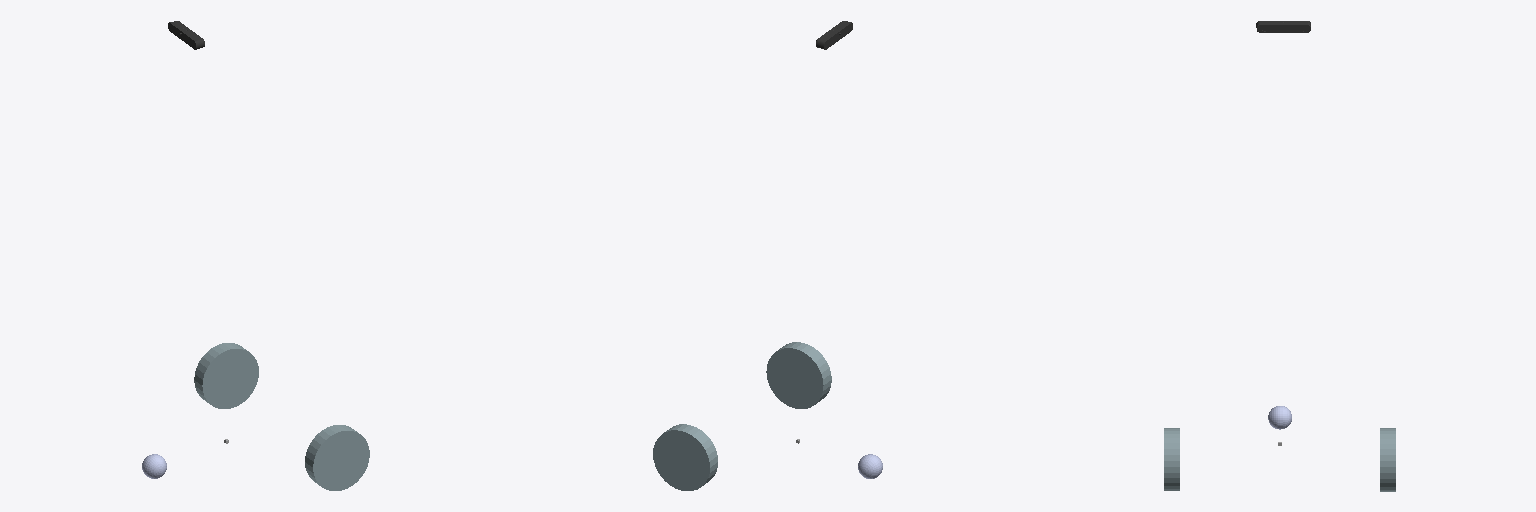
The robot description file, URDF, robot "reception":
<?xml version="1.0" ?>
<!-- =================================================================================== -->
<!-- |    This document was autogenerated by xacro from robot_fablab.xacro             | -->
<!-- |    EDITING THIS FILE BY HAND IS NOT RECOMMENDED                                 | -->
<!-- =================================================================================== -->
<robot name="reception">
  <gazebo>
    <plugin filename="libgazebo_ros_control.so" name="gazebo_ros_control">
    </plugin>
  </gazebo>
  <gazebo reference="link_lidar">
    <sensor name="head_hokuyo_sensor" type="ray">
      <pose>0 0 0 0 0 0</pose>
      <visualize>false</visualize>
      <update_rate>10</update_rate>
      <ray>
        <scan>
          <horizontal>
            <samples>512</samples>
            <resolution>1</resolution>
            <min_angle>-3.14</min_angle>
            <max_angle>3.14</max_angle>
          </horizontal>
        </scan>
        <range>
          <min>0.10</min>
          <max>10.0</max>
          <resolution>0.03</resolution>
        </range>
        <noise>
          <type>gaussian</type>
          <!-- Noise parameters based on published spec for Hokuyo laser
               achieving "+-30mm" accuracy at range < 10m.  A mean of 0.0m and
               stddev of 0.01m will put 99.7% of samples within 0.03m of the true
               reading. -->
          <mean>0.0</mean>
          <stddev>0.01</stddev>
        </noise>
      </ray>
      <plugin filename="libgazebo_ros_laser.so" name="gazebo_ros_head_hokuyo_controller">
        <topicName>/laser/scan</topicName>
        <frameName>link_lidar</frameName>
      </plugin>
    </sensor>
  </gazebo>
  <!-- <gazebo reference="link_camera">
    <sensor type="camera" name="camera">
      <update_rate>30.0</update_rate>
      <visualize></visualize>
      <camera name="head">
        <horizontal_fov>1.3962634</horizontal_fov>
        <image>
          <width>800</width>
          <height>800</height>
          <format>R8G8B8</format>
        </image>
        <clip>
          <near>0.02</near>
          <far>300</far>
        </clip>
      </camera>
      <plugin name="camera_controller" filename="libgazebo_ros_camera.so">
        <alwaysOn>true</alwaysOn>
        <updateRate>0.0</updateRate>
        <cameraName>/camera</cameraName>
        <imageTopicName>image_raw</imageTopicName>
        <cameraInfoTopicName>camera_info</cameraInfoTopicName>
        <frameName>link_camera</frameName>
        <hackBaseline>0.07</hackBaseline>
        <distortionK1>0.0</distortionK1>
        <distortionK2>0.0</distortionK2>
        <distortionK3>0.0</distortionK3>
        <distortionT1>0.0</distortionT1>
        <distortionT2>0.0</distortionT2>
      </plugin>
    </sensor>
  </gazebo> -->
  <gazebo reference="imu_link">
    <sensor name="imu_sensor" type="imu">
      <always_on>true</always_on>
      <update_rate>100.0</update_rate>
      <visualize>true</visualize>
      <plugin filename="libgazebo_ros_imu_sensor.so" name="imu_plugin">
        <ros>
          <namespace>/imu</namespace>
        </ros>
        <frameName>imu_link</frameName>
        <topicName>imu/data</topicName>
        <initial_orientation_as_reference>false</initial_orientation_as_reference>
      </plugin>
    </sensor>
  </gazebo>
  <gazebo reference="base_link">
    <material>
          Gazebo/Blue
    </material>
  </gazebo>
  <gazebo reference="link_left">
    <material>
          Gazebo/Black
    </material>
  </gazebo>
  <gazebo reference="link_right">
    <material>
          Gazebo/Black
    </material>
  </gazebo>
  <gazebo reference="link_caster">
    <material>
          Gazebo/Black
    </material>
  </gazebo>
  <gazebo reference="link_camera">
    <material>
          Gazebo/Black
    </material>
  </gazebo>
  <gazebo reference="link_lidar">
    <material>
          Gazebo/Black
    </material>
  </gazebo>
  <link name="base_footprint">
  </link>
  <joint name="base_footprint_joint" type="fixed">
    <parent link="base_footprint"/>
    <child link="base_link"/>
    <origin rpy="0 0 0" xyz="0 0 0"/>
  </joint>
  <link name="base_link">
    <inertial>
      <origin rpy="0 0 0" xyz="-0.025807 0.027971 0.41357"/>
      <mass value="29.924"/>
      <inertia ixx="1.0006" ixy="-0.0013232" ixz="0.0065325" iyy="0.70301" iyz="-3.0656E-05" izz="1.3855"/>
    </inertial>
    <visual>
      <origin rpy="0 0 0" xyz="0 0 0"/>
      <geometry>
        <mesh filename="package://robot_fablab/meshes/base_link.STL"/>
      </geometry>
      <material name="">
        <color rgba="0.79216 0.81961 0.93333 1"/>
      </material>
    </visual>
    <collision>
      <origin rpy="0 0 0" xyz="0 0 0"/>
      <geometry>
        <mesh filename="package://robot_fablab/meshes/base_link.STL"/>
      </geometry>
    </collision>
  </link>
  <link name="link_left">
    <inertial>
      <origin rpy="0 0 0" xyz="-0.00011936 0.00025083 0.014883"/>
      <mass value="1.0707"/>
      <inertia ixx="0.0032566" ixy="1.1489E-08" ixz="-1.3959E-05" iyy="0.0032564" iyz="-9.4568E-09" izz="0.0062144"/>
    </inertial>
    <visual>
      <origin rpy="0 0 0" xyz="0 0 0"/>
      <geometry>
        <cylinder length="0.05" radius="0.1"/>
      </geometry>
      <material name="">
        <color rgba="0.59608 0.66667 0.68627 1"/>
      </material>
    </visual>
    <collision>
      <origin rpy="0 0 0" xyz="0 0 0"/>
      <geometry>
        <cylinder length="0.05" radius="0.1"/>
      </geometry>
    </collision>
  </link>
  <joint name="joint_left" type="continuous">
    <origin rpy="1.5708 0 0" xyz="0.19672 0.3411 0.036748"/>
    <parent link="base_link"/>
    <child link="link_left"/>
    <axis xyz="0 0 -1"/>
    <dynamics damping="0.1" friction="0.1"/>
  </joint>
  <link name="link_right">
    <inertial>
      <origin rpy="0 0 0" xyz="0.00023152 0.00019816 -0.014882"/>
      <mass value="1.0707"/>
      <inertia ixx="0.0032565" ixy="-4.4065E-08" ixz="-1.3949E-05" iyy="0.0032564" iyz="2.7514E-08" izz="0.0062144"/>
    </inertial>
    <visual>
      <origin rpy="0 0 0" xyz="0 0 0"/>
      <geometry>
        <cylinder length="0.05" radius="0.1"/>
      </geometry>
      <material name="">
        <color rgba="0.59608 0.66667 0.68627 1"/>
      </material>
    </visual>
    <collision>
      <origin rpy="0 0 0" xyz="0 0 0"/>
      <geometry>
        <cylinder length="0.05" radius="0.1"/>
      </geometry>
    </collision>
  </link>
  <joint name="joint_right" type="continuous">
    <origin rpy="1.5708 0 0" xyz="0.1933 -0.34091 0.0368"/>
    <parent link="base_link"/>
    <child link="link_right"/>
    <axis xyz="0 0 -1"/>
    <dynamics damping="0.1" friction="0.1"/>
  </joint>
  <link name="link_caster">
    <inertial>
      <origin rpy="0 0 0" xyz="0.018731 0.021844 -0.00013927"/>
      <mass value="0.37837"/>
      <inertia ixx="0.00048693" ixy="-8.3984E-05" ixz="2.0261E-06" iyy="0.00045028" iyz="1.5693E-06" izz="0.00064534"/>
    </inertial>
    <visual>
      <origin rpy="0 0 0" xyz="0 0 0"/>
      <geometry>
        <sphere radius="0.038"/>
      </geometry>
      <material name="">
        <color rgba="0.79216 0.81961 0.93333 1"/>
      </material>
    </visual>
    <collision>
      <origin rpy="0 0 0" xyz="0 0 0"/>
      <geometry>
        <sphere radius="0.04"/>
      </geometry>
    </collision>
  </link>
  <joint name="joint_caster" type="continuous">
    <origin rpy="1.5708 0 0" xyz="-0.25394 0.00080362 -0.0255"/>
    <parent link="base_link"/>
    <child link="link_caster"/>
    <axis xyz="0 0 1"/>
    <dynamics damping="0.1" friction="0.1"/>
  </joint>
  <link name="link_lidar">
    <inertial>
      <origin rpy="0 0 0" xyz="-0.002487 1.09E-05 -0.024095"/>
      <mass value="0.035081"/>
      <inertia ixx="1.9431E-05" ixy="7.3718E-10" ixz="4.0724E-08" iyy="1.932E-05" iyz="-1.091E-09" izz="3.7018E-05"/>
    </inertial>
    <visual>
      <origin rpy="0 0 0" xyz="0 0 0"/>
      <geometry>
        <mesh filename="package://robot_fablab/meshes/link_lidar.STL"/>
      </geometry>
      <material name="">
        <color rgba="0 0 0 1"/>
      </material>
    </visual>
    <collision>
      <origin rpy="0 0 0" xyz="0 0 0"/>
      <geometry>
        <mesh filename="package://robot_fablab/meshes/link_lidar.STL"/>
      </geometry>
    </collision>
  </link>
  <joint name="joint_lidar" type="fixed">
    <origin rpy="0 0 0" xyz="0.011534 0.010999 0.55646"/>
    <parent link="base_link"/>
    <child link="link_lidar"/>
    <axis xyz="0 0 0"/>
  </joint>
  <link name="link_camera">
    <inertial>
      <origin rpy="0 0 0" xyz="-0.016107 4.0071E-05 -0.00053431"/>
      <mass value="0.15226"/>
      <inertia ixx="0.0003084" ixy="-1.3455E-06" ixz="-4.4401E-08" iyy="2.2766E-05" iyz="9.3764E-09" izz="0.00031076"/>
    </inertial>
    <visual>
      <origin rpy="0 0 0" xyz="0 0 0"/>
      <geometry>
        <mesh filename="package://robot_fablab/meshes/link_camera.STL"/>
      </geometry>
      <material name="">
        <color rgba="0.27059 0.27059 0.27059 1"/>
      </material>
    </visual>
    <collision>
      <origin rpy="0 0 0" xyz="0 0 0"/>
      <geometry>
        <mesh filename="package://robot_fablab/meshes/link_camera.STL"/>
      </geometry>
    </collision>
  </link>
  <joint name="joint_camera" type="fixed">
    <origin rpy="0 0 0" xyz="-0.11803 0.012232 1.3955"/>
    <parent link="base_link"/>
    <child link="link_camera"/>
    <axis xyz="0 0 0"/>
  </joint>
  <link name="imu_link">
    <visual>
      <origin rpy="0 0 0" xyz="0 0 0"/>
      <geometry>
        <box size="0.01 0.01 0.01"/>
      </geometry>
      <material name="black"/>
    </visual>
    <collision>
      <origin rpy="0 0 0" xyz="0 0 0"/>
      <geometry>
        <box size="0.01 0.01 0.01"/>
      </geometry>
    </collision>
    <inertial>
      <origin rpy="0 0 0" xyz="0 0 0"/>
      <mass value="0.01"/>
      <inertia ixx="1e-6" ixy="0" ixz="0" iyy="1e-6" iyz="0" izz="1e-6"/>
    </inertial>
  </link>
  <joint name="imu_joint" type="fixed">
    <parent link="base_link"/>
    <child link="imu_link"/>
    <origin rpy="0 0 0" xyz="0 0 0"/>
  </joint>
  <!-- transmission -->
  <transmission name="right_wheel_trans">
    <type>transmission_interface/SimpleTransmission</type>
    <actuator name="motor_right_wheel">
      <hardwareInterface>EffortJointInterface</hardwareInterface>
      <mechanicalReduction>1</mechanicalReduction>
    </actuator>
    <joint name="joint_right">
      <hardwareInterface>VelocityJointInterface</hardwareInterface>
    </joint>
  </transmission>
  <transmission name="left_wheel_trans">
    <type>transmission_interface/SimpleTransmission</type>
    <actuator name="motor_left_wheel">
      <hardwareInterface>EffortJointInterface</hardwareInterface>
      <mechanicalReduction>1</mechanicalReduction>
    </actuator>
    <joint name="joint_left">
      <hardwareInterface>VelocityJointInterface</hardwareInterface>
    </joint>
  </transmission>
</robot>

--- Render facts (derived) ---
Views: 3 orthographic renders of the robot side by side, from view 1: azimuth 30°, elevation 25°; view 2: azimuth 150°, elevation 25°; view 3: azimuth 270°, elevation 25°.
Model reception with 8 links and 7 joints (3 continuous, 4 fixed), rooted at base_footprint, posed all joints at 0.
Links seen in each view (by area): view 1: link_right, link_left, link_camera; view 2: link_right, link_left, link_camera; view 3: link_left, link_right, link_camera.
Boxes of the visible links, bbox=[...] form: link_right: bbox=[305, 425, 369, 490]; link_left: bbox=[194, 343, 258, 408]; link_camera: bbox=[168, 21, 204, 49]; link_right: bbox=[766, 342, 831, 408]; link_left: bbox=[653, 424, 717, 490]; link_camera: bbox=[816, 21, 852, 49]; link_left: bbox=[1380, 428, 1395, 491]; link_right: bbox=[1164, 428, 1179, 490]; link_camera: bbox=[1256, 21, 1310, 32].
Size in the robot's own frame: 0.5887 by 0.732 by 1.47 metres.
1 mesh visuals loaded from 3 distinct referenced files (1 binary STL); not drawn: 2 (reference not matched to a file when rendering).
